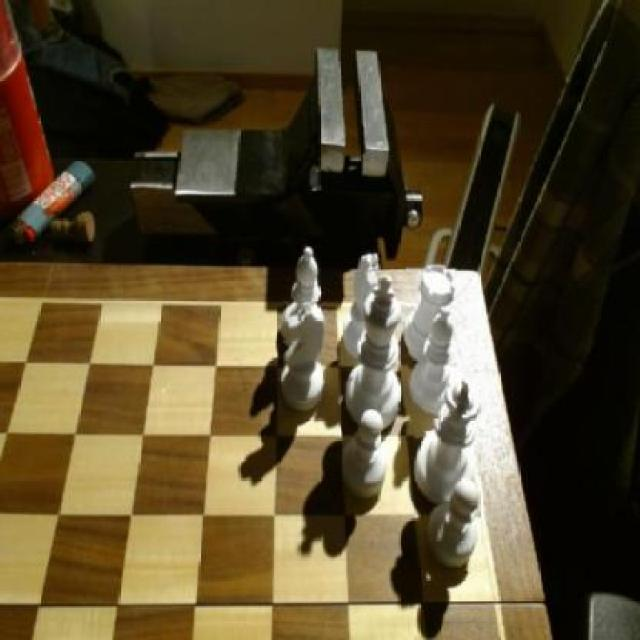black-rook: (408, 306, 468, 419), (283, 246, 323, 342)
white-bishop: (344, 270, 410, 432)
white-king: (278, 306, 329, 418), (344, 254, 384, 361)
white-knight: (428, 475, 488, 570), (343, 409, 390, 498)
white-pawn: (414, 382, 483, 504)
white-queen: (406, 266, 456, 364)
